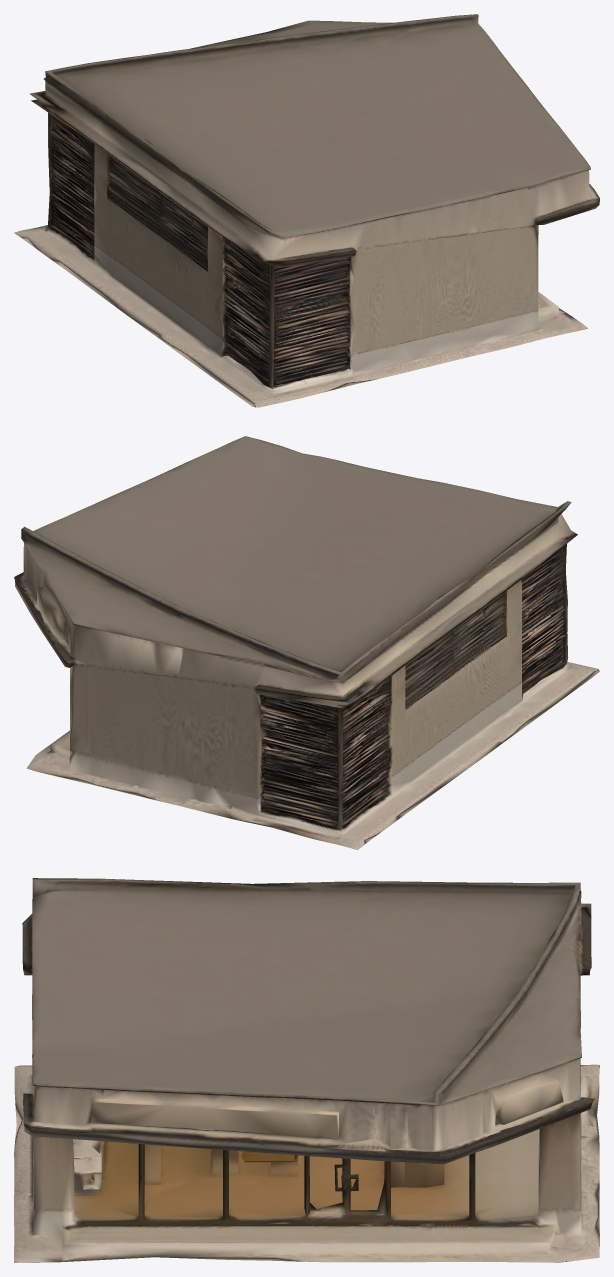
The model's file is grocery.glb.
The picture shows the model from 3 angles, top to bottom: view 1: azimuth 30°, elevation 25°; view 2: azimuth 150°, elevation 25°; view 3: azimuth 270°, elevation 25°; orthographic projection. The views are drawn at different scales.
Visible parts, largest first — view 1: tripo_node_57da4709-1e7f-4f6c-8628-aeecd4d9f29b; view 2: tripo_node_57da4709-1e7f-4f6c-8628-aeecd4d9f29b; view 3: tripo_node_57da4709-1e7f-4f6c-8628-aeecd4d9f29b.
Part boxes in pixels (bbox=[...]): tripo_node_57da4709-1e7f-4f6c-8628-aeecd4d9f29b: bbox=[14, 14, 599, 407]; tripo_node_57da4709-1e7f-4f6c-8628-aeecd4d9f29b: bbox=[14, 436, 599, 849]; tripo_node_57da4709-1e7f-4f6c-8628-aeecd4d9f29b: bbox=[14, 878, 599, 1262].
Size of the model in its own units: 0.9619 by 0.393 by 1.
Materials: 1 (1 with a texture image).
